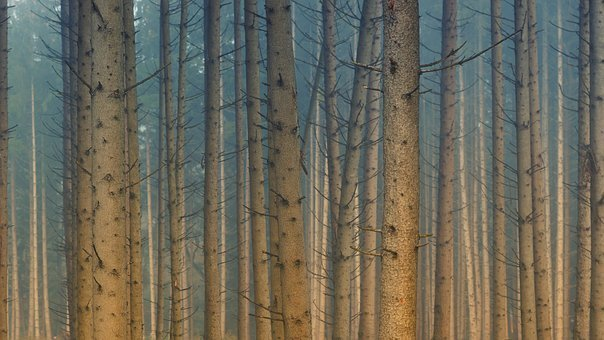forest: (7, 1, 597, 340)
tree: (36, 2, 166, 340), (426, 2, 556, 340), (191, 1, 321, 338), (303, 1, 433, 338)
